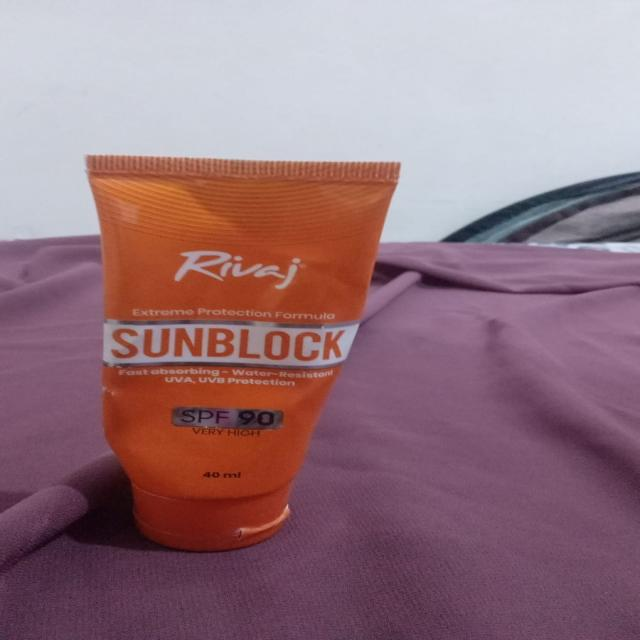sun block: (40, 126, 430, 570)
